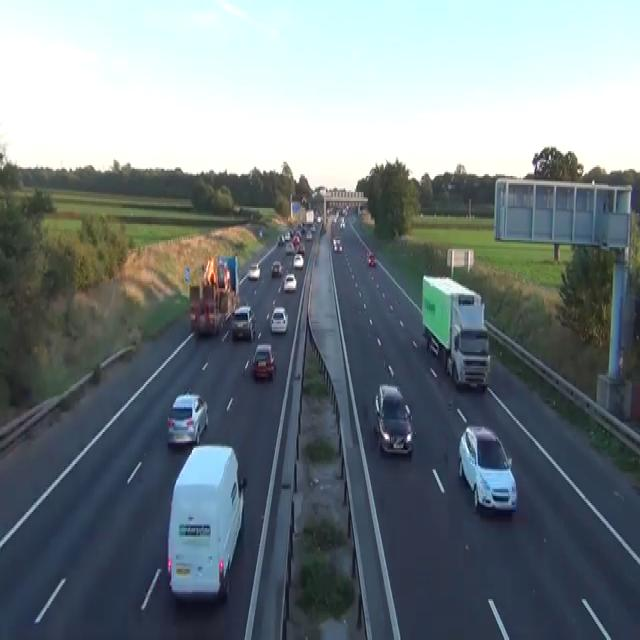Car: (458, 425, 517, 514), (373, 382, 413, 455), (166, 389, 208, 446), (189, 297, 219, 336), (231, 304, 256, 341), (252, 343, 275, 379), (270, 306, 288, 332), (189, 300, 199, 329), (283, 272, 297, 292), (271, 260, 283, 278), (247, 263, 260, 279), (332, 236, 342, 252), (293, 252, 303, 268), (367, 251, 375, 265), (285, 242, 294, 254), (297, 242, 305, 254), (277, 233, 284, 245), (305, 229, 312, 240), (284, 229, 291, 240), (339, 217, 345, 227), (310, 222, 316, 231), (301, 196, 307, 204), (319, 226, 325, 234), (316, 215, 321, 222), (332, 215, 336, 222), (259, 228, 262, 236)
Truck: (166, 442, 245, 602), (421, 274, 490, 391), (188, 254, 239, 336)
